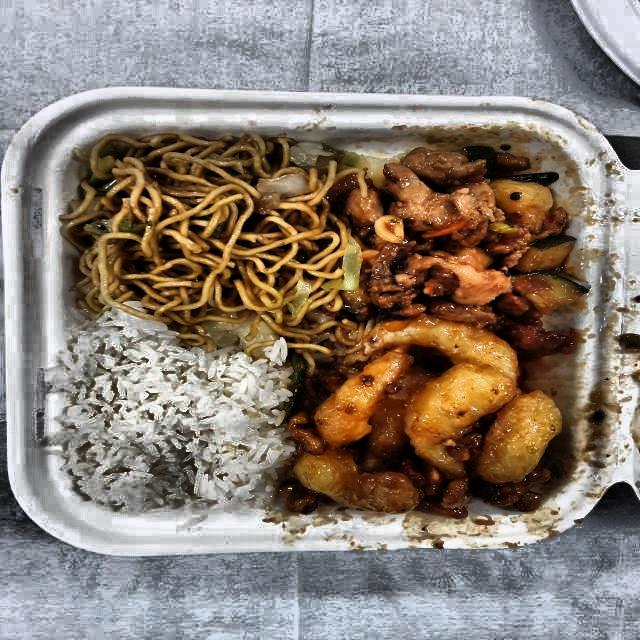Food: (282, 316, 576, 522), (63, 127, 341, 336), (348, 136, 590, 332), (54, 327, 288, 514)
